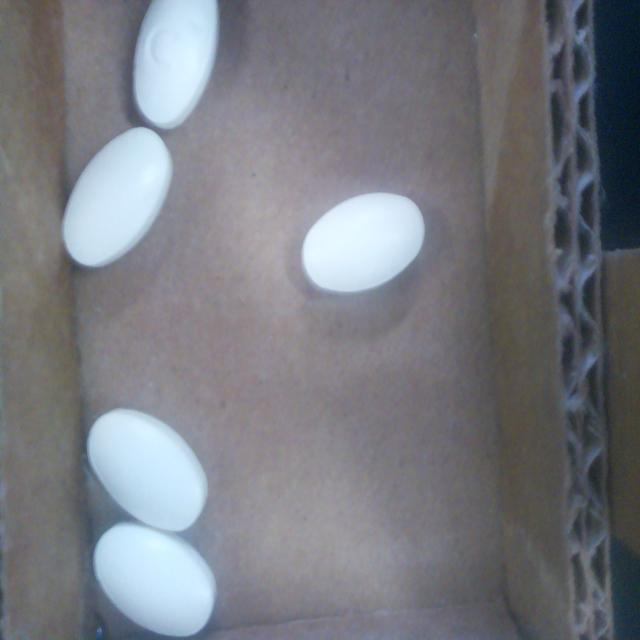pill: (62, 127, 173, 267), (88, 409, 208, 532), (94, 523, 216, 637), (301, 193, 425, 294), (133, 0, 219, 129)
